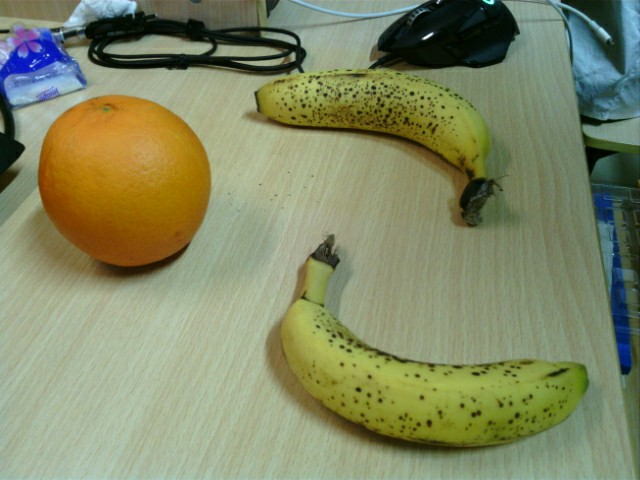normal_banana: (280, 235, 592, 447), (255, 67, 501, 228)
normal_orange: (39, 94, 212, 266)
